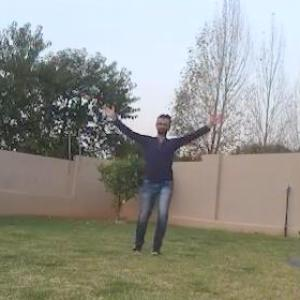takeoff: (99, 100, 216, 256)
